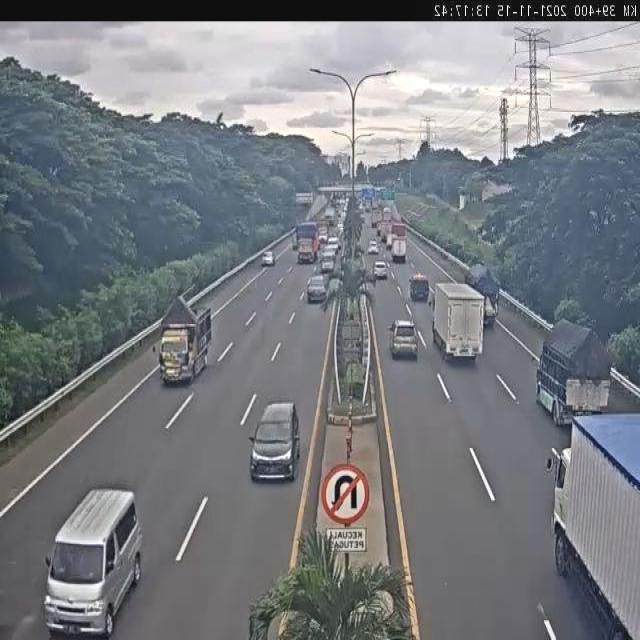Car: (249, 401, 301, 482), (389, 319, 419, 359), (408, 272, 429, 301), (306, 275, 327, 303), (373, 260, 388, 278), (320, 254, 334, 273), (317, 225, 328, 243), (262, 250, 274, 266), (327, 236, 339, 252), (368, 240, 378, 255), (359, 212, 366, 224)
Truck: (546, 411, 640, 640), (535, 318, 613, 426), (152, 296, 212, 386), (432, 283, 484, 358), (392, 236, 406, 260)
Van: (43, 488, 142, 636)
